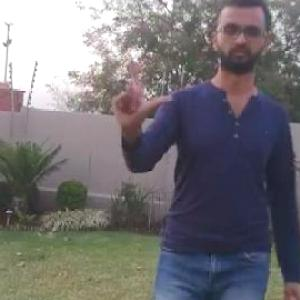land_hand: (94, 57, 180, 126)
